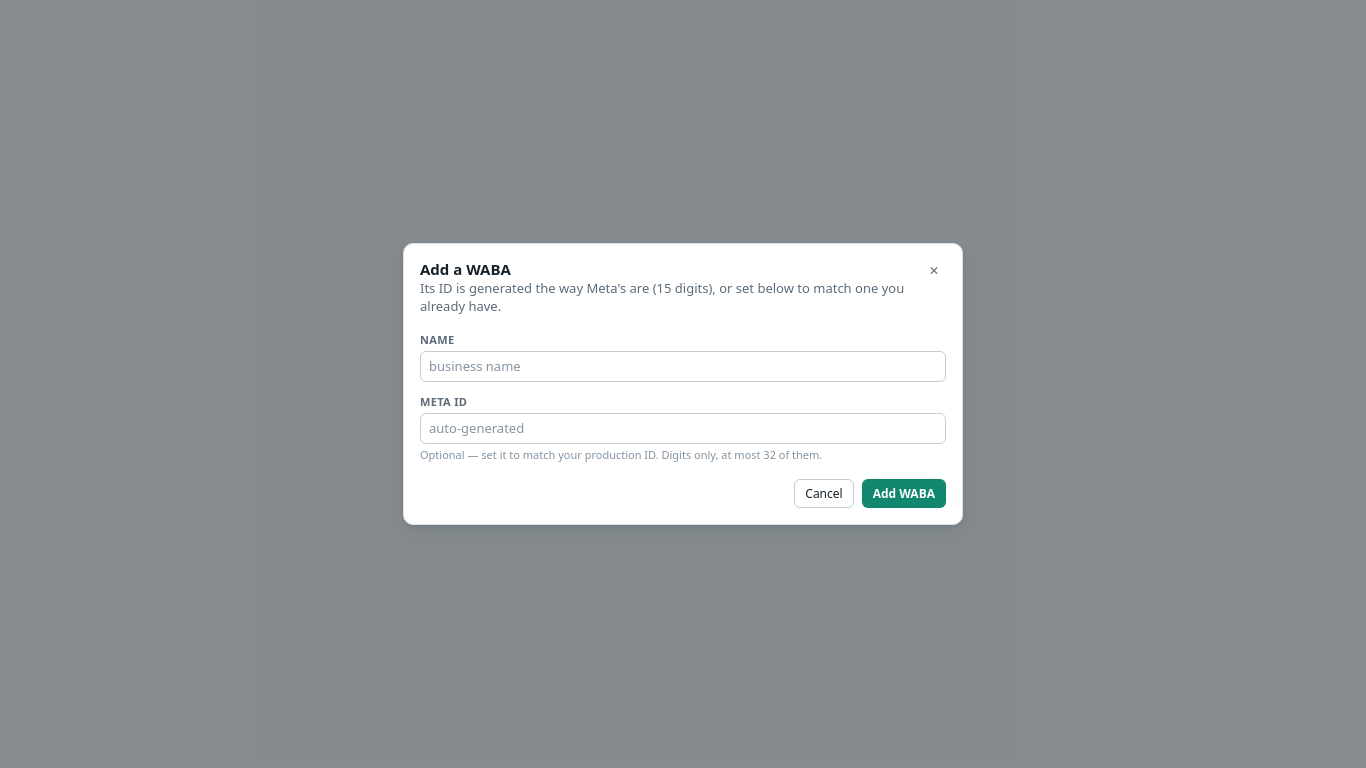
Test: CreateWabaDialog › refuses an id that is not digits, without asking the server
The width and height of the screenshot is (1366, 768).
Step 1. Type "Second Business" into the field named "New WABA name" → (683, 367), box [420,351,946,382]
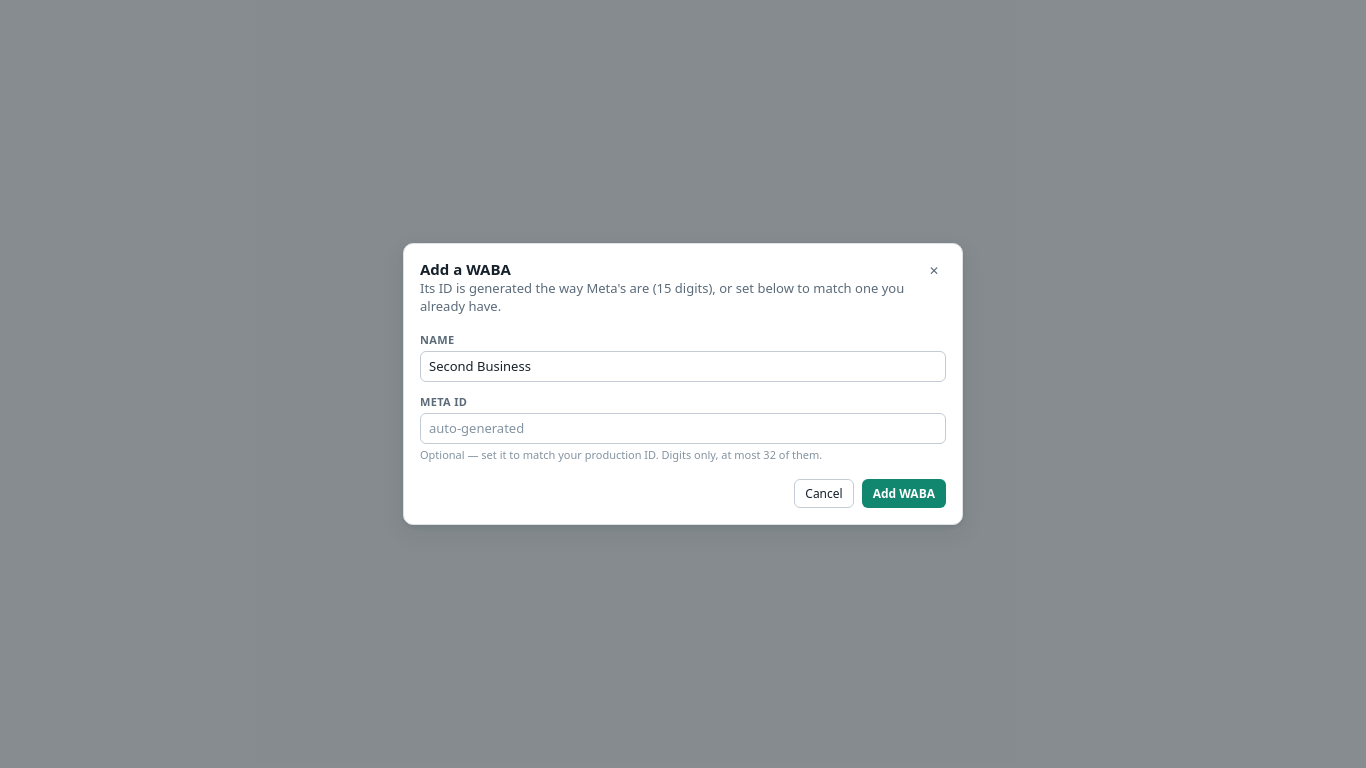
Step 2. Type "waba-1" into the field named "New WABA ID" → (683, 428), box [420,413,946,444]
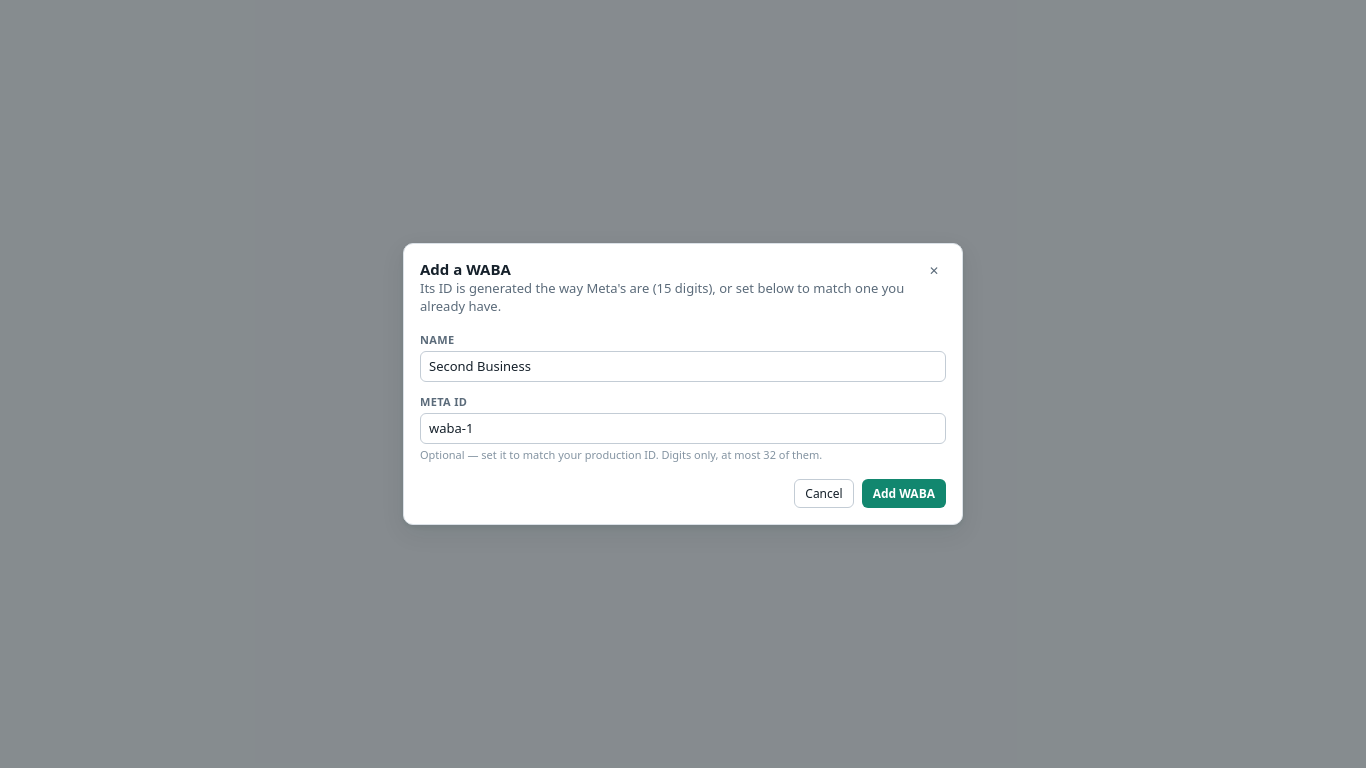
Step 3. Click the button "Add WABA" → (904, 494), box [862,479,946,508]
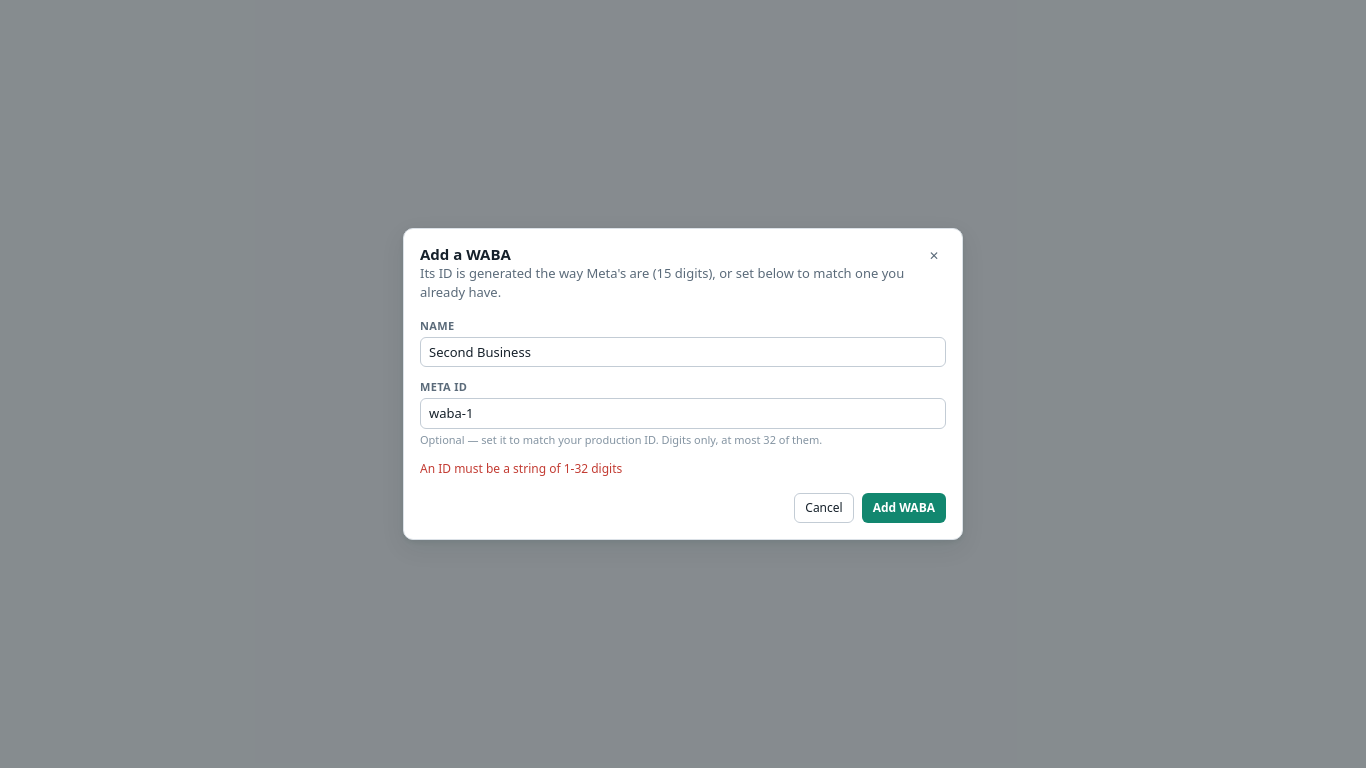
Expected: the message shows "1-32 digits", [420,460,622,477]
